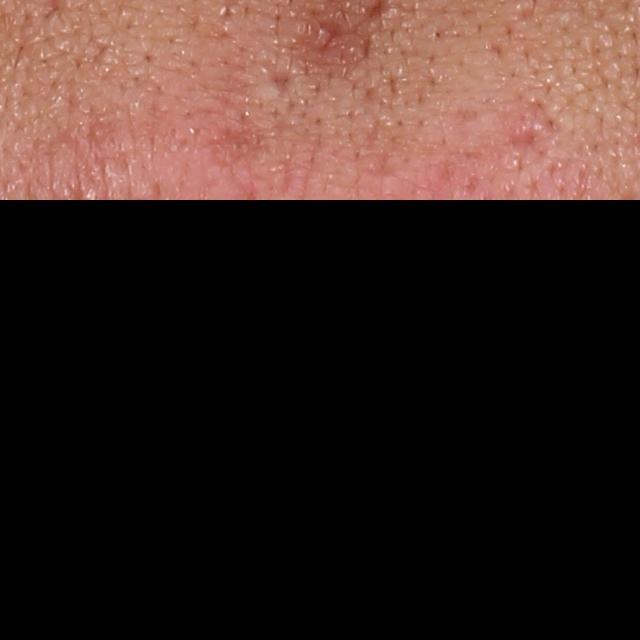atrophic_scar: (313, 15, 375, 62), (264, 62, 295, 97)
